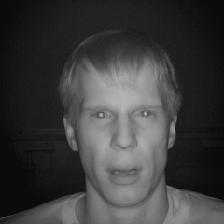normal: (63, 34, 183, 209)
